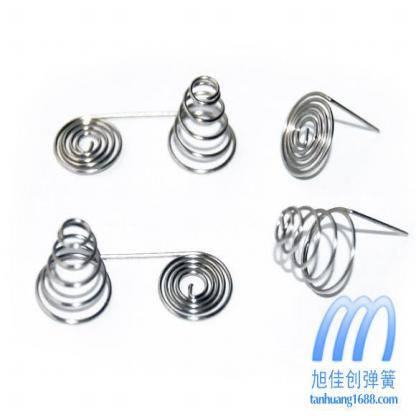FOD: (34, 212, 239, 328), (51, 68, 242, 178), (270, 202, 410, 302), (279, 87, 382, 184)
